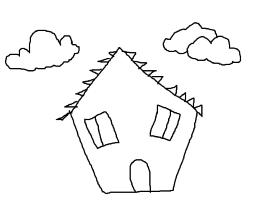closed_window: (84, 108, 120, 150), (149, 104, 181, 140)
clouds: (161, 21, 241, 65), (4, 29, 80, 71)
door: (125, 156, 156, 197)
single_line_roof: (55, 45, 204, 121)
wall: (66, 99, 202, 197)
